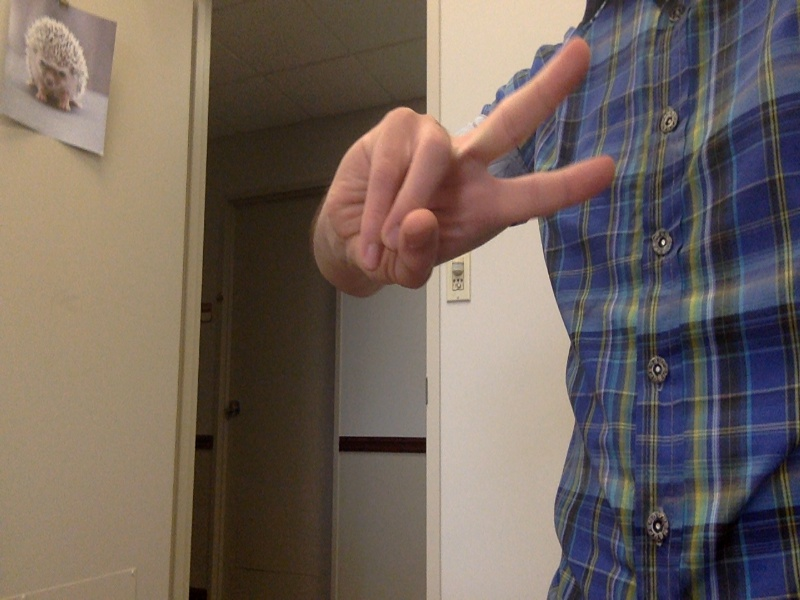2-hand: (324, 38, 616, 291)
